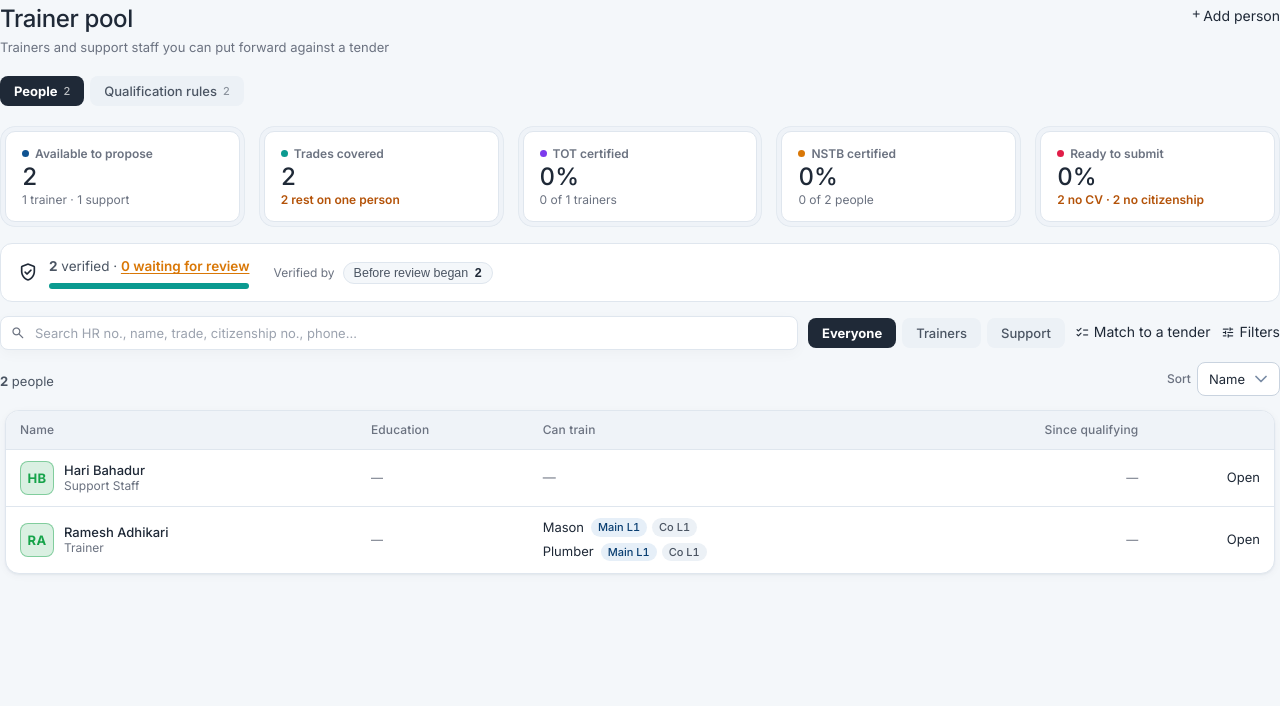
Test: matching a tender › opens a picker of every occupation, not only ones already covered
Click the element showing "Match to a tender" at (1143, 333), box [1075, 321, 1210, 345]
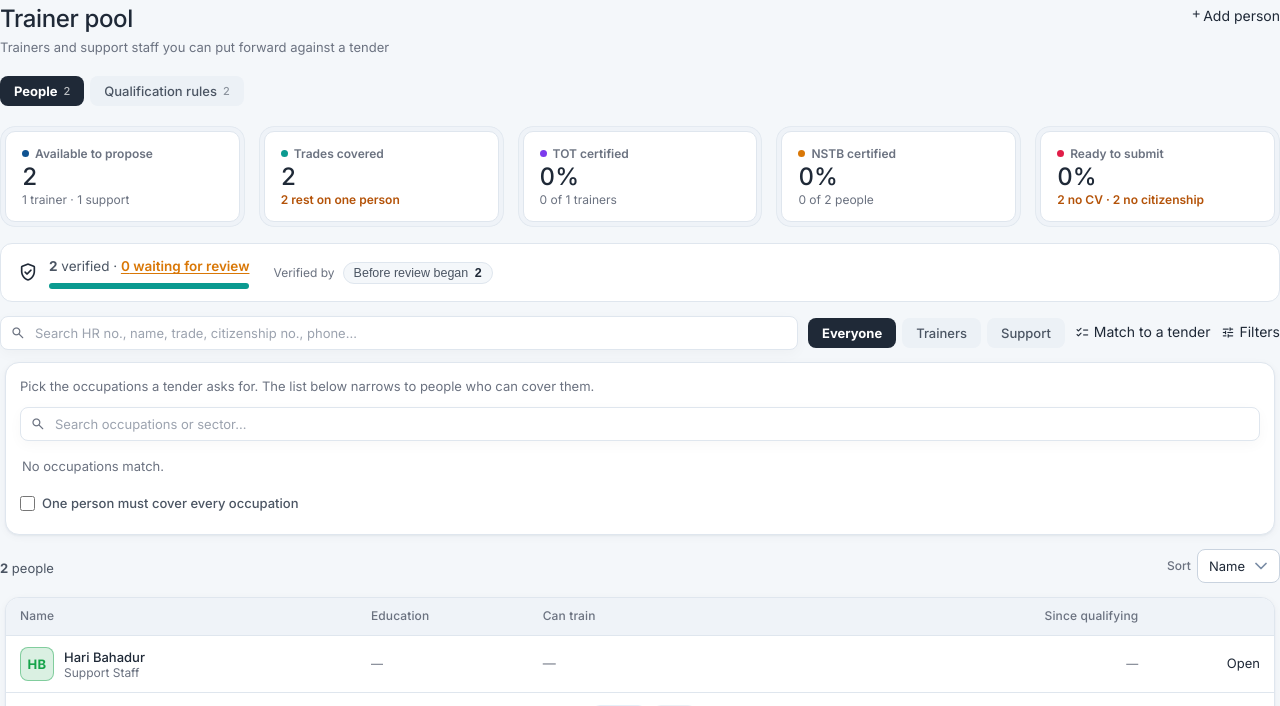
Check: the text "Pick the occupations a tender asks for" is shown, box [20, 378, 594, 394]
Check: the text "One person must cover every occupation" is shown, box [20, 494, 298, 514]
